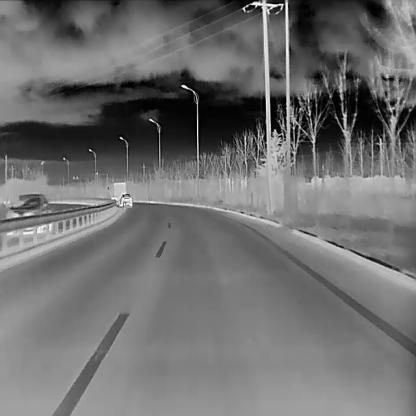car: (5, 193, 53, 234), (118, 192, 132, 206)
truck: (107, 182, 126, 204)
